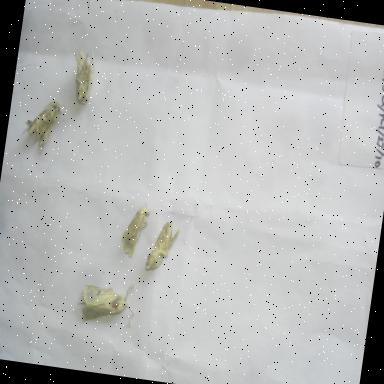abw: (75, 272, 141, 330), (19, 88, 66, 160), (110, 195, 155, 260), (142, 211, 184, 280), (62, 44, 101, 112)
